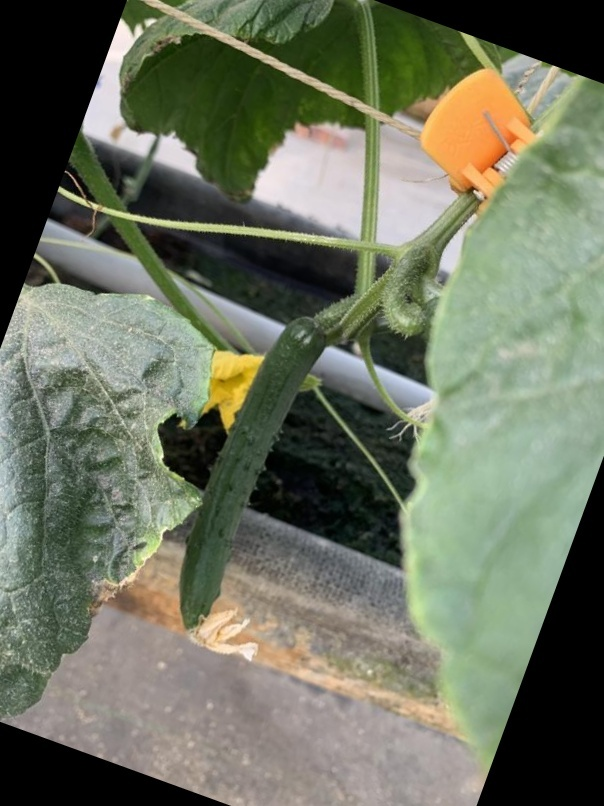mature: (167, 317, 330, 642)
